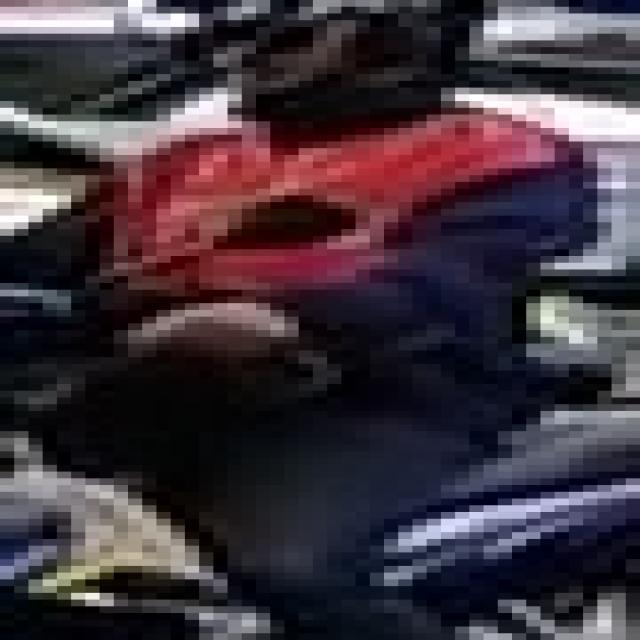door: (0, 0, 626, 633)
helmet: (341, 404, 626, 633)
